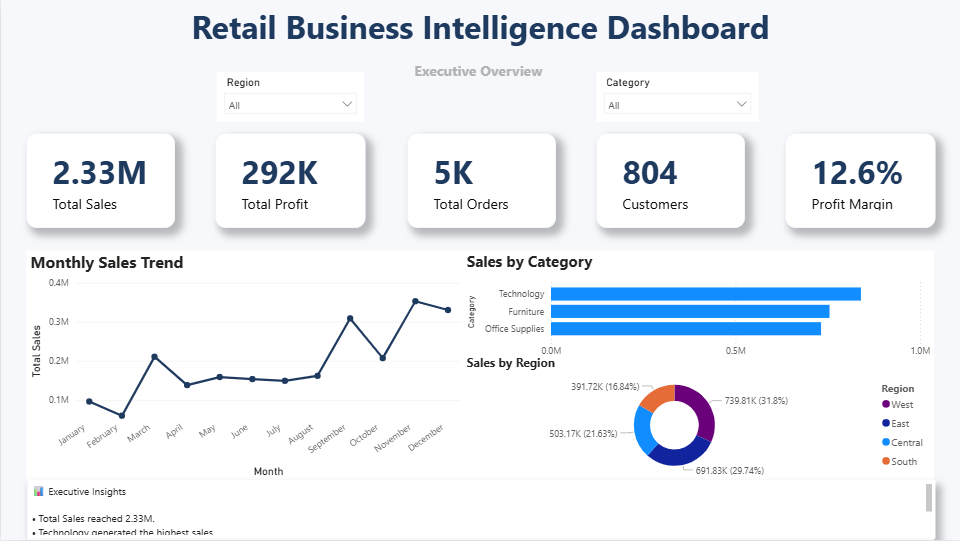

This screenshot's page, from the dashboard's own definition file:
{"tool":"powerbi","page":{"name":"Executive Overview","canvas":[1280,720],"ordinal":0},"visuals":[{"type":"textbox","box":[232.4,0,814.5,75.6],"z":1000},{"type":"textbox","box":[546,76,196,38],"z":2000},{"type":"cardVisual","fields":{"Data":["cleaned_superstore_mysql.Total Sales Display"]},"box":[34,178,198,126],"z":3000},{"type":"cardVisual","fields":{"Data":["cleaned_superstore_mysql.Total Profit Display"]},"box":[286.5,178,200,126],"z":4000},{"type":"cardVisual","fields":{"Data":["cleaned_superstore_mysql.Total Orders Display"]},"box":[541,178,198,126],"z":5000},{"type":"cardVisual","fields":{"Data":["cleaned_superstore_mysql.Total Customers Display"]},"box":[793.5,178,198,126],"z":6000},{"type":"cardVisual","fields":{"Data":["cleaned_superstore_mysql.Profit Margin Display"]},"box":[1046,178,200,126],"z":7000},{"type":"lineChart","title":"Monthly Sales Trend","fields":{"Y":["cleaned_superstore_mysql.Total Sales"],"Category":["cleaned_superstore_mysql.order_date.Variation.Date Hierarchy.Year","cleaned_superstore_mysql.order_date.Variation.Date Hierarchy.Quarter","cleaned_superstore_mysql.order_date.Variation.Date Hierarchy.Month","cleaned_superstore_mysql.order_date.Variation.Date Hierarchy.Day"]},"box":[34,334,584,306],"z":7001},{"type":"barChart","title":"Sales by Category","fields":{"Y":["cleaned_superstore_mysql.Total Sales"],"Category":["cleaned_superstore_mysql.category"]},"box":[616,334,628,152],"z":7002},{"type":"donutChart","title":"Sales by Region","fields":{"Category":["cleaned_superstore_mysql.region"],"Y":["cleaned_superstore_mysql.Total Sales"]},"box":[616,472,628,168],"z":7003},{"type":"slicer","fields":{"Values":["cleaned_superstore_mysql.region"]},"box":[288,96,196,66],"z":7004},{"type":"slicer","fields":{"Values":["cleaned_superstore_mysql.category"]},"box":[794,96,216,66],"z":7005},{"type":"shape","box":[34,642,1210,78],"z":7006},{"type":"textbox","box":[36,640,1210,78],"z":7007}]}

Visuals, with their boxes in screenshot pixels (x1, y1, x2, y2), scaled from the page's 1280x720 canvas onto the 960x541 screenshot:
textbox: Rect(174, 0, 785, 57)
textbox: Rect(410, 57, 556, 86)
cardVisual - cleaned_superstore_mysql.Total Sales Display: Rect(26, 134, 174, 228)
cardVisual - cleaned_superstore_mysql.Total Profit Display: Rect(215, 134, 365, 228)
cardVisual - cleaned_superstore_mysql.Total Orders Display: Rect(406, 134, 554, 228)
cardVisual - cleaned_superstore_mysql.Total Customers Display: Rect(595, 134, 744, 228)
cardVisual - cleaned_superstore_mysql.Profit Margin Display: Rect(784, 134, 934, 228)
"Monthly Sales Trend" lineChart: Rect(26, 251, 464, 481)
"Sales by Category" barChart: Rect(462, 251, 933, 365)
"Sales by Region" donutChart: Rect(462, 355, 933, 481)
slicer - cleaned_superstore_mysql.region: Rect(216, 72, 363, 122)
slicer - cleaned_superstore_mysql.category: Rect(596, 72, 758, 122)
shape: Rect(26, 482, 933, 540)
textbox: Rect(27, 481, 934, 539)
